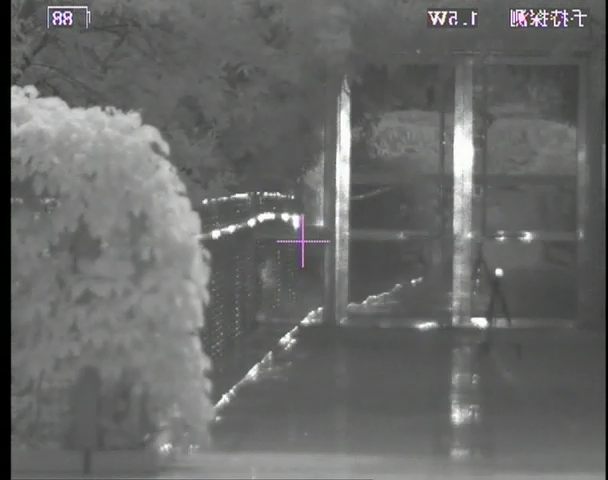my: (494, 266, 504, 278)
